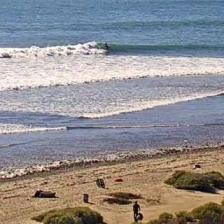surfer: (104, 43, 110, 49), (188, 55, 192, 57)
